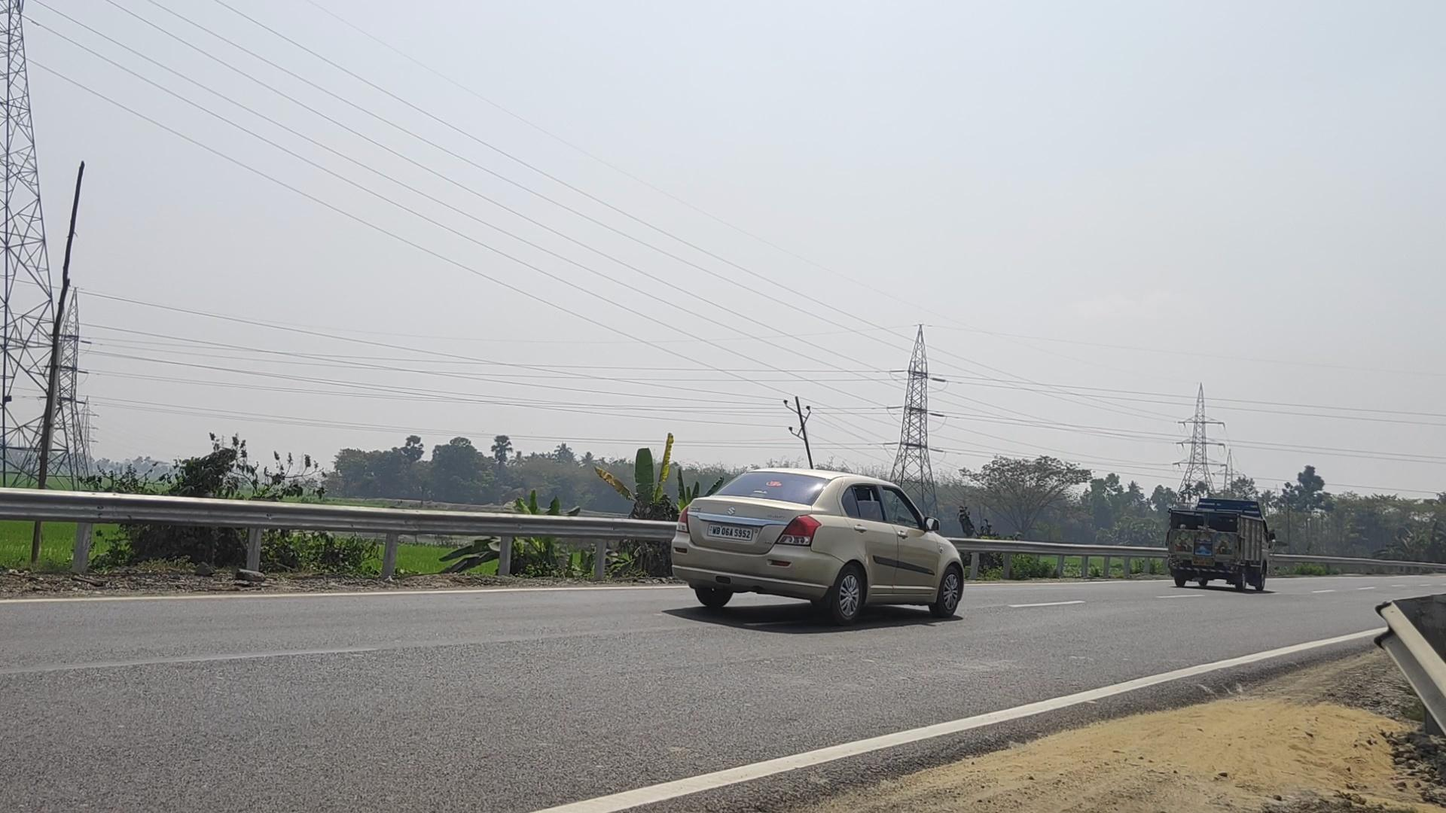car: (670, 467, 965, 627)
van: (1166, 498, 1276, 592)
